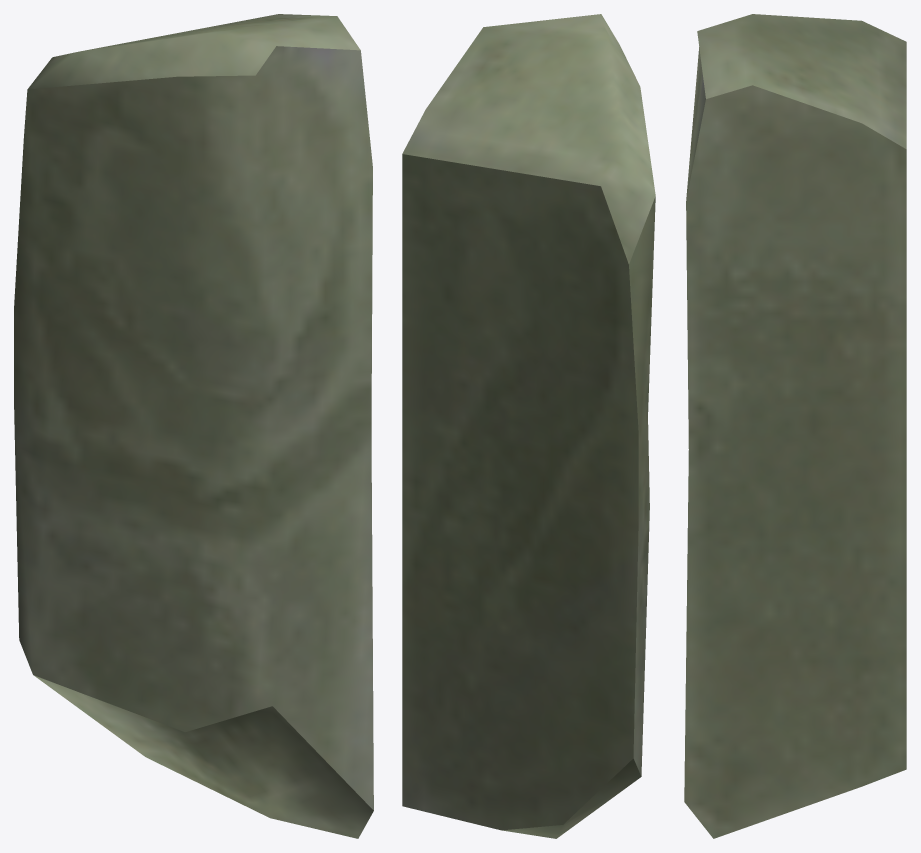
File: Ruins_Trim_Cap_DMG_1M_B.obj
3 renders of one model, left to right at view 1: azimuth 30°, elevation 25°; view 2: azimuth 150°, elevation 25°; view 3: azimuth 270°, elevation 25°, orthographic. The views are drawn at different scales.
Parts seen in each view (by area): view 1: Dn_HL_Ruins_Trim_Cap_DMG_1M_B; view 2: Dn_HL_Ruins_Trim_Cap_DMG_1M_B; view 3: Dn_HL_Ruins_Trim_Cap_DMG_1M_B.
Boxes of the visible parts, <box> form: Dn_HL_Ruins_Trim_Cap_DMG_1M_B: <box>14,14,373,838</box>; Dn_HL_Ruins_Trim_Cap_DMG_1M_B: <box>402,14,655,838</box>; Dn_HL_Ruins_Trim_Cap_DMG_1M_B: <box>684,14,906,838</box>.
Size of the model in its own units: 0.9273 by 3 by 0.788.
